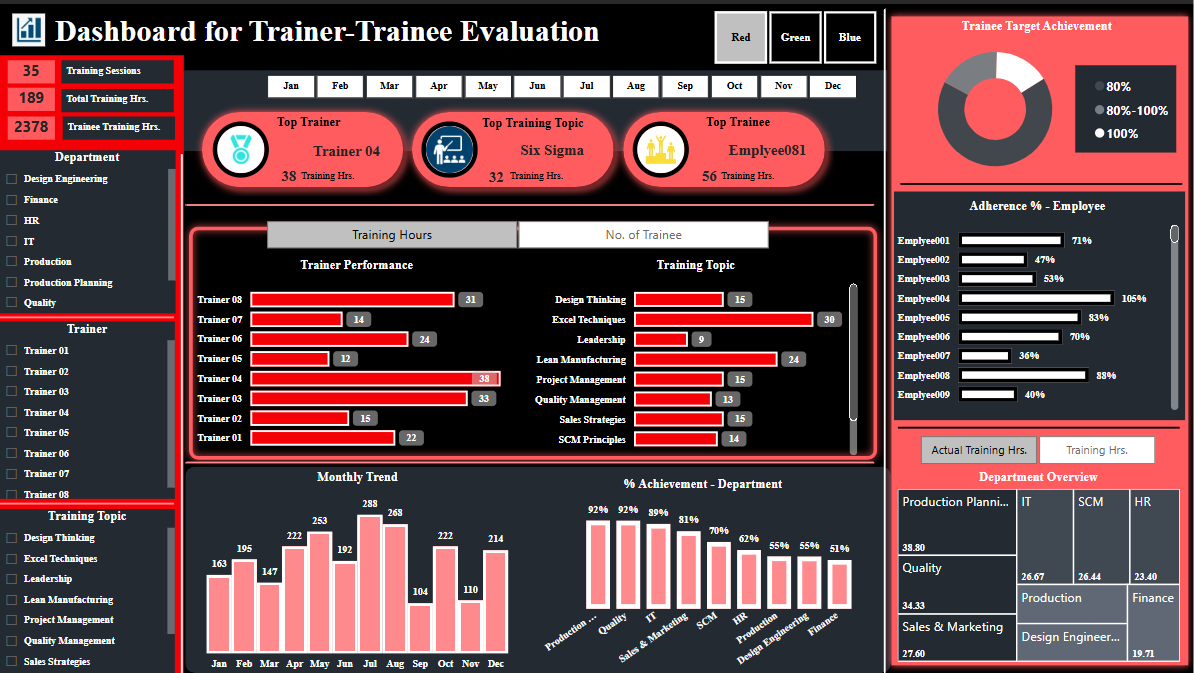

Layout of this report page (visuals, bound fields, positions):
{"tool":"powerbi","page":{"name":"RGB Dashboard","canvas":[1280,720],"ordinal":0},"visuals":[{"type":"card","fields":{"Values":["CountNonNull(tbl_TrainingRecords.Training Hrs.)"]},"box":[10,60,50,25],"z":0,"group":"g2"},{"type":"group","id":"g1","title":"Group 2","box":[207.5,105.7,235.2,100.2],"z":0,"group":"g3"},{"type":"shape","box":[207.5,105.7,235.2,100.2],"z":0,"group":"g1"},{"type":"shape","box":[432.2,105.7,235.5,100],"z":0,"group":"g4"},{"type":"shape","box":[657,105.7,235.5,100],"z":0,"group":"g5"},{"type":"shape","box":[194.8,229.4,751.7,265.5],"z":0},{"type":"card","fields":{"Values":["Sum(tbl_TrainingRecords.Training Hrs.)"]},"box":[10,90,50,25],"z":1000,"group":"g2"},{"type":"image","box":[228.3,126.1,60,60],"z":1000,"group":"g1"},{"type":"image","box":[451.9,126.2,60,60],"z":1000,"group":"g4"},{"type":"image","box":[677,126.2,60,60],"z":1000,"group":"g5"},{"type":"card","fields":{"Values":["Min(tbl_TrainingRecords.Trainer)"]},"box":[325.6,144.2,93.3,28.8],"z":1000,"group":"g3"},{"type":"shape","box":[199.1,494.9,754.6,220.7],"z":1000},{"type":"shape","box":[194.8,70.7,754.6,86.6],"z":2000},{"type":"textbox","box":[291.2,115.9,79.6,30.2],"z":2000,"group":"g1"},{"type":"textbox","box":[744.2,116,91.4,32.9],"z":2000,"group":"g5"},{"type":"card","fields":{"Values":["Sum(tbl_TraineeRecords.Training Hrs.)"]},"box":[10,120,50,25],"z":2000,"group":"g2"},{"type":"card","fields":{"Values":["Min(tbl_TrainingRecords.Training Topic)"]},"box":[533.7,141.7,115.7,31.4],"z":2000,"group":"g4"},{"type":"card","fields":{"Values":["Sum(tbl_TrainingRecords.Training Hrs.)"]},"box":[291.9,171.6,37.1,28.6],"z":2000,"group":"g3"},{"type":"shape","box":[946.5,5.8,333.3,709.8],"z":3000},{"type":"textbox","box":[68,60,120,25],"z":3000,"group":"g2"},{"type":"textbox","box":[534.4,172.2,82.9,20.7],"z":3000,"group":"g4"},{"type":"textbox","box":[759.2,172.2,82.9,20.7],"z":3000,"group":"g5"},{"type":"textbox","box":[310.5,173,82.9,20.7],"z":3000,"group":"g3"},{"type":"shape","box":[0,54.8,197.7,660.8],"z":4000},{"type":"textbox","box":[68,90.2,120,25],"z":4000,"group":"g2"},{"type":"card","fields":{"Values":["Sum(tbl_TrainingRecords.Training Hrs.)"]},"box":[503.7,164.5,58.6,44.3],"z":4000,"group":"g4"},{"type":"card","fields":{"Values":["Sum(tbl_TraineeRecords.Training Hrs.)"]},"box":[732.8,168.8,51.4,34.3],"z":4000,"group":"g5"},{"type":"textbox","box":[488,117.2,165.7,24.3],"z":5000,"group":"g4"},{"type":"textbox","box":[68.5,120,120,25],"z":5000,"group":"g2"},{"type":"card","fields":{"Values":["Min(tbl_TraineeRecords.Employee Name)"]},"box":[751.3,141.7,138.6,31.4],"z":5000,"group":"g5"},{"type":"clusteredBarChart","title":"Trainer Performance","fields":{"Category":["tbl_TrainingRecords.Trainer"],"Y":["Ref_Trainer.Trainer Slicer"]},"box":[209.7,271.4,345,210],"z":5000},{"type":"clusteredColumnChart","title":"Monthly Trend","fields":{"Y":["Sum(tbl_TraineeRecords.Training Hrs.)"],"Category":["tbl_TrainingRecords.Month Name"]},"box":[211.4,498.6,344.3,217.1],"z":6000},{"type":"clusteredColumnChart","title":"% Achievement - Department","fields":{"Category":["tbl_EmpDatabase.Department"],"Y":["tbl_EmpDatabase.Adherence %"]},"box":[580,505,344.8,210.6],"z":7000},{"type":"slicer","fields":{"Values":["Ref_Department.Option"]},"box":[964.3,460,290,34.3],"z":8000},{"type":"image","box":[10,5,45,45],"z":9000},{"type":"slicer","fields":{"Values":["Ref_Trainer.Option"]},"box":[265.7,230,575.7,32.9],"z":10000},{"type":"textbox","box":[54.3,5.7,634.3,60],"z":11000},{"type":"clusteredBarChart","title":"Training Topic","fields":{"Y":["Ref_Trainer.Trainer Slicer"],"Category":["tbl_TrainingRecords.Training Topic"]},"box":[571.4,271.4,345.7,211.4],"z":12000},{"type":"group","id":"g2","title":"M1","box":[10,60,178.5,85],"z":13000},{"type":"group","id":"g3","title":"Oval 1","box":[207.5,105.7,235.2,100.2],"z":14000},{"type":"group","id":"g4","title":"Oval 2","box":[432.2,105.7,235.5,103.1],"z":15000},{"type":"group","id":"g5","title":"Oval 3","box":[657,105.7,235.5,100],"z":16000},{"type":"shape","box":[1150.6,65.5,108.2,93.5],"z":16500},{"type":"donutChart","title":"Trainee Target Achievement","fields":{"Category":["tbl_EmpDatabase.Status"],"Y":["CountNonNull(tbl_EmpDatabase.Employee ID)"]},"box":[960,15.7,300,172.9],"z":17000},{"type":"shape","box":[960.9,444.4,301.5,15.9],"z":18000},{"type":"treemap","title":"Department Overview","fields":{"Group":["tbl_EmpDatabase.Department"],"Values":["Ref_Department.Depart Slicer"]},"box":[960.3,498.5,301.5,204.4],"z":19000},{"type":"slicer","title":"Department","fields":{"Values":["tbl_EmpDatabase.Department"]},"box":[0,155.7,188.6,174.3],"z":20000},{"type":"slicer","title":"Trainer","fields":{"Values":["tbl_TraineeRecords.Trainer"]},"box":[0,339.7,188.2,189.7],"z":21000},{"type":"slicer","title":"Training Topic","fields":{"Values":["tbl_TraineeRecords.Training Topic"]},"box":[0,539.7,188.2,177.9],"z":22000},{"type":"shape","box":[934.3,5.7,25.7,710],"z":23000},{"type":"shape","box":[190.4,160.1,8.7,559.8],"z":24000},{"type":"shape","box":[956.8,200.4,311.4,244.5],"z":24500},{"type":"clusteredBarChart","title":"Adherence % - Employee","fields":{"Category":["tbl_EmpDatabase.Employee Name"],"Y":["tbl_EmpDatabase.Adherence %"]},"box":[960,208.6,301.4,225.7],"z":25000},{"type":"slicer","title":"Department","fields":{"Values":["tbl_TrainingRecords.Month Name"]},"box":[266,73,670,29],"z":26000},{"type":"shape","box":[198.6,208.6,737.1,12.9],"z":27000},{"type":"shape","box":[198.6,484.3,737.1,12.9],"z":28000},{"type":"shape","box":[963.8,184.7,301.5,15.9],"z":29000},{"type":"slicer","title":"Department","fields":{"Values":["Color_Flag.Color"]},"box":[744.3,5.3,212.5,60.1],"z":30000},{"type":"shape","box":[0,331.8,187.6,7.2],"z":31000},{"type":"shape","box":[0,530.9,187.6,7.2],"z":32000}]}

Visuals, with their boxes in screenshot pixels (x1, y1, x2, y2), scaled from the page's 1280x720 canvas onto the 1194x673 screenshot:
card - CountNonNull(tbl_TrainingRecords.Training Hrs.): left=9, top=56, right=56, bottom=79
"Group 2" group: left=194, top=99, right=413, bottom=192
shape: left=194, top=99, right=413, bottom=192
shape: left=403, top=99, right=623, bottom=192
shape: left=613, top=99, right=833, bottom=192
shape: left=182, top=214, right=883, bottom=463
card - Sum(tbl_TrainingRecords.Training Hrs.): left=9, top=84, right=56, bottom=107
image: left=213, top=118, right=269, bottom=174
image: left=422, top=118, right=478, bottom=174
image: left=632, top=118, right=687, bottom=174
card - Min(tbl_TrainingRecords.Trainer): left=304, top=135, right=391, bottom=162
shape: left=186, top=463, right=890, bottom=669
shape: left=182, top=66, right=886, bottom=147
textbox: left=272, top=108, right=346, bottom=137
textbox: left=694, top=108, right=779, bottom=139
card - Sum(tbl_TraineeRecords.Training Hrs.): left=9, top=112, right=56, bottom=136
card - Min(tbl_TrainingRecords.Training Topic): left=498, top=132, right=606, bottom=162
card - Sum(tbl_TrainingRecords.Training Hrs.): left=272, top=160, right=307, bottom=187
shape: left=883, top=5, right=1193, bottom=669
textbox: left=63, top=56, right=175, bottom=79
textbox: left=498, top=161, right=576, bottom=180
textbox: left=708, top=161, right=786, bottom=180
textbox: left=290, top=162, right=367, bottom=181
shape: left=0, top=51, right=184, bottom=669
textbox: left=63, top=84, right=175, bottom=108
card - Sum(tbl_TrainingRecords.Training Hrs.): left=470, top=154, right=525, bottom=195
card - Sum(tbl_TraineeRecords.Training Hrs.): left=684, top=158, right=732, bottom=190
textbox: left=455, top=110, right=610, bottom=132
textbox: left=64, top=112, right=176, bottom=136
card - Min(tbl_TraineeRecords.Employee Name): left=701, top=132, right=830, bottom=162
"Trainer Performance" clusteredBarChart: left=196, top=254, right=517, bottom=450
"Monthly Trend" clusteredColumnChart: left=197, top=466, right=518, bottom=669
"% Achievement - Department" clusteredColumnChart: left=541, top=472, right=863, bottom=669
slicer - Ref_Department.Option: left=900, top=430, right=1170, bottom=462
image: left=9, top=5, right=51, bottom=47
slicer - Ref_Trainer.Option: left=248, top=215, right=785, bottom=246
textbox: left=51, top=5, right=642, bottom=61
"Training Topic" clusteredBarChart: left=533, top=254, right=855, bottom=451
"M1" group: left=9, top=56, right=176, bottom=136
"Oval 1" group: left=194, top=99, right=413, bottom=192
"Oval 2" group: left=403, top=99, right=623, bottom=195
"Oval 3" group: left=613, top=99, right=833, bottom=192
shape: left=1073, top=61, right=1174, bottom=149
"Trainee Target Achievement" donutChart: left=896, top=15, right=1175, bottom=176
shape: left=896, top=415, right=1178, bottom=430
"Department Overview" treemap: left=896, top=466, right=1177, bottom=657
"Department" slicer: left=0, top=146, right=176, bottom=308
"Trainer" slicer: left=0, top=318, right=176, bottom=495
"Training Topic" slicer: left=0, top=504, right=176, bottom=671
shape: left=872, top=5, right=896, bottom=669
shape: left=178, top=150, right=186, bottom=672
shape: left=893, top=187, right=1183, bottom=416
"Adherence % - Employee" clusteredBarChart: left=896, top=195, right=1177, bottom=406
"Department" slicer: left=248, top=68, right=873, bottom=95
shape: left=185, top=195, right=873, bottom=207
shape: left=185, top=453, right=873, bottom=465
shape: left=899, top=173, right=1180, bottom=188
"Department" slicer: left=694, top=5, right=893, bottom=61
shape: left=0, top=310, right=175, bottom=317
shape: left=0, top=496, right=175, bottom=503
